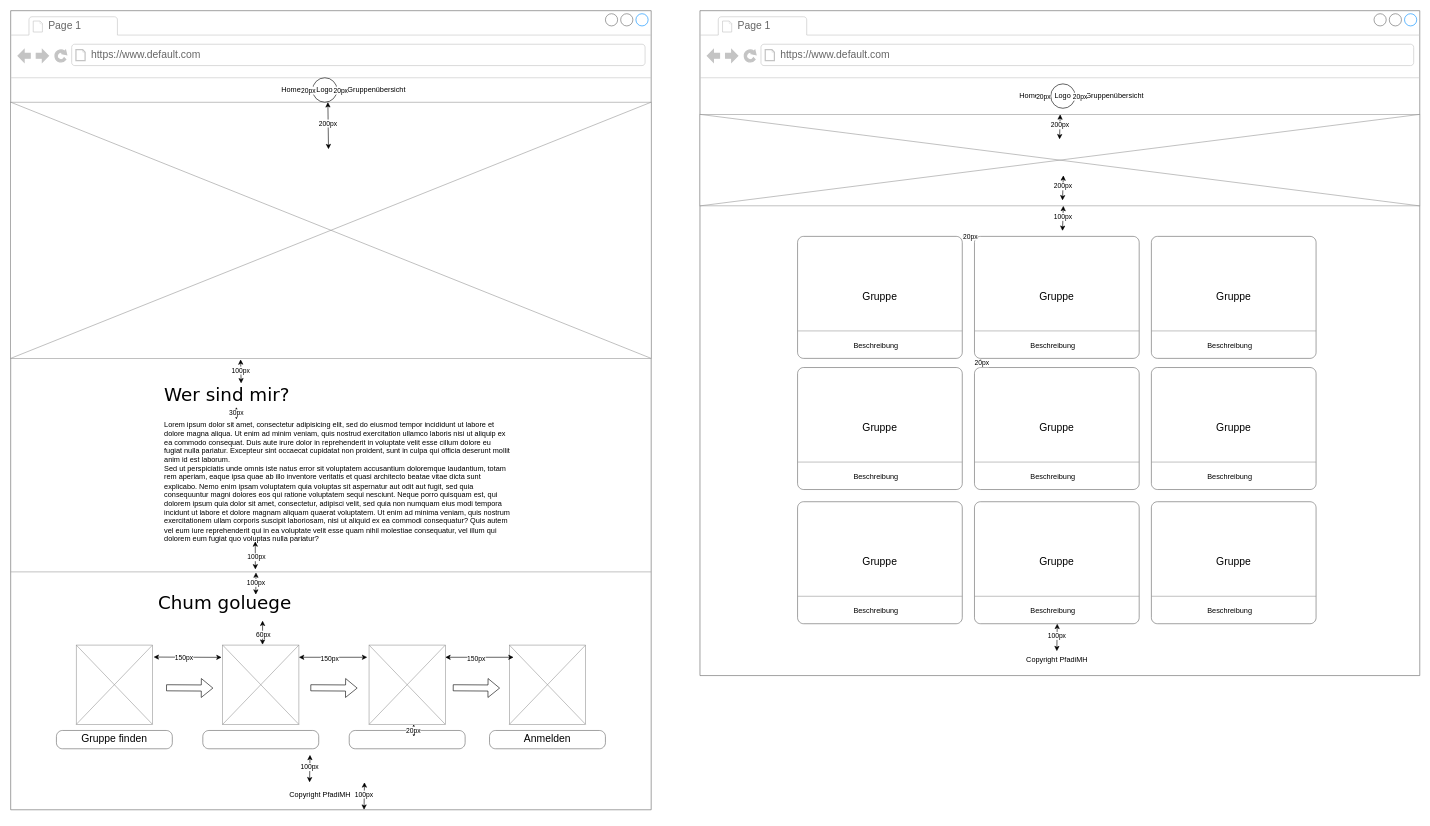
This 1430x826 diagram has some shape labels left out. The shapes that lost their labels are listed below. From the top down, each one's centre as x and y in pixels, then its label:
At pixel 1059 160: "Gruppen".
At pixel 330 230: "Pfadi MH".
At pixel 260 739: "Datum abmachen".
At pixel 407 739: "Vorbeikommen".
